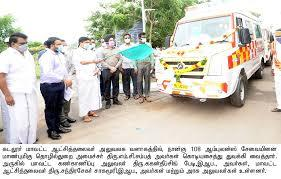ER: (158, 1, 267, 107)
